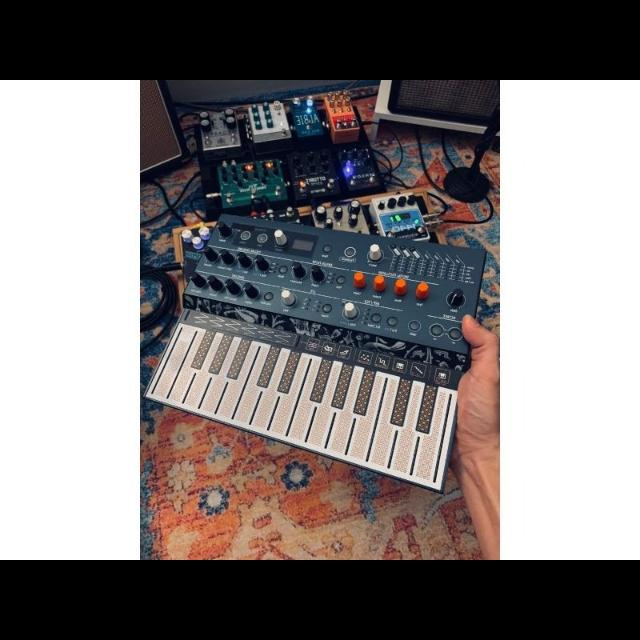Electronic-Keyboard: (168, 219, 480, 489)
